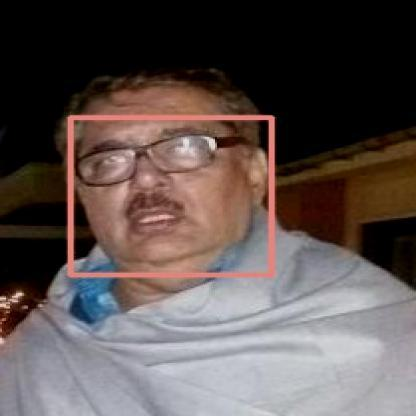without_mask: (70, 117, 271, 274)
